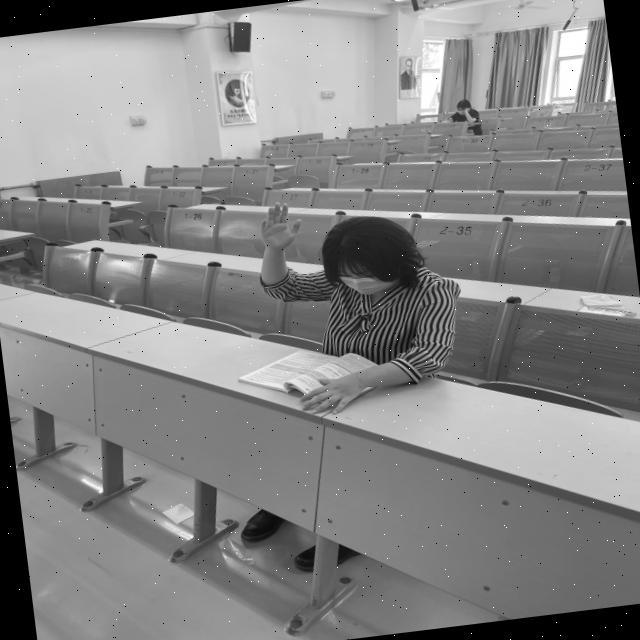study: (223, 182, 474, 423)
